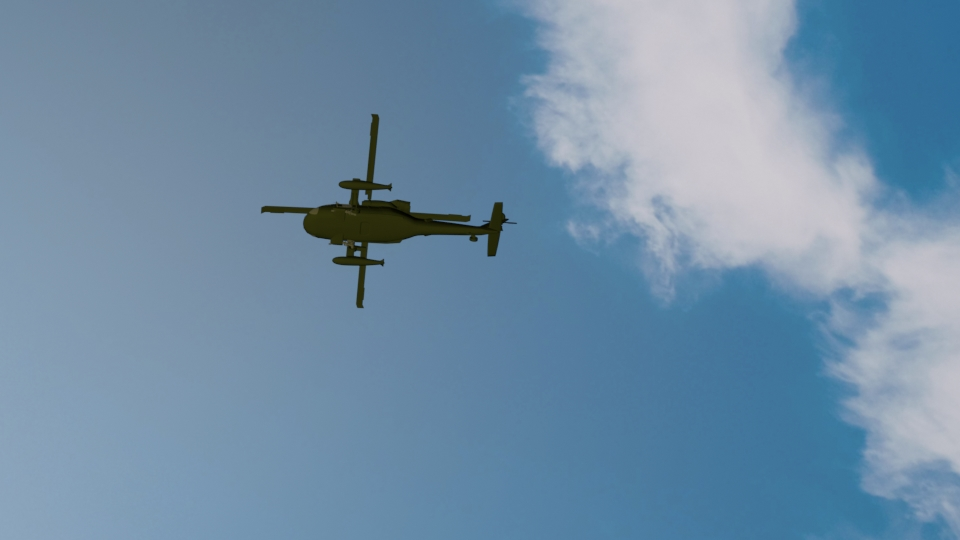heli: (258, 112, 512, 311)
